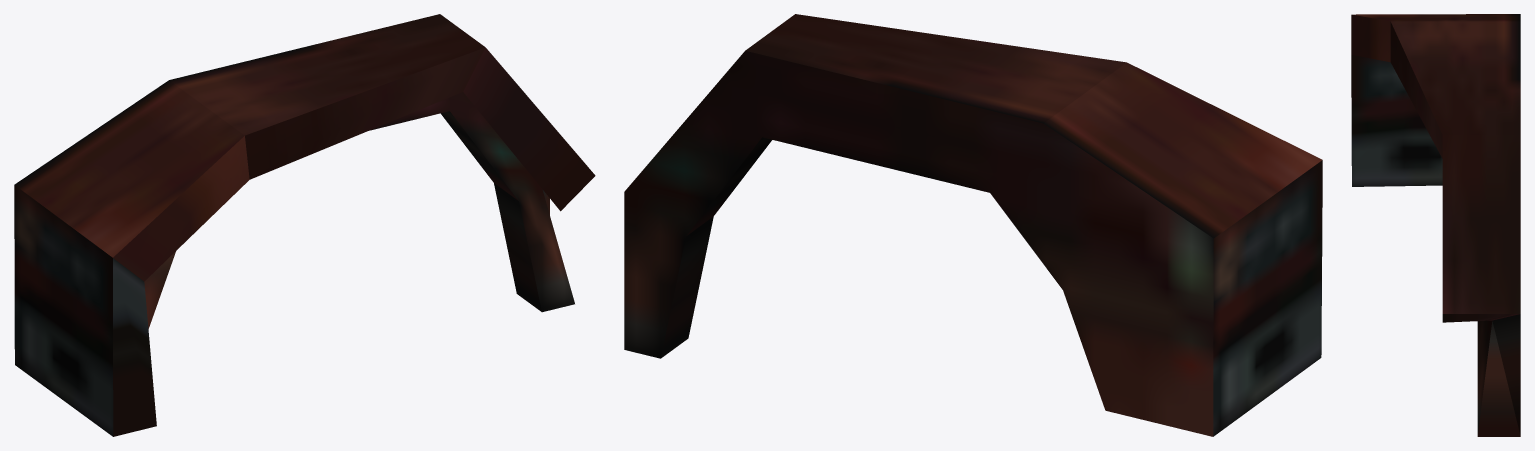
The model's file is Shared - Armor - Tanker Truck - Damage State 08 - CVTanker_d08.glb.
3 renders of one model, left to right at view 1: azimuth 30°, elevation 25°; view 2: azimuth 150°, elevation 25°; view 3: azimuth 270°, elevation 25°, orthographic. The views are drawn at different scales.
Visible parts, largest first — view 1: CVTANKER_D08; view 2: CVTANKER_D08; view 3: CVTANKER_D08.
Part boxes in pixels (x1=…): CVTANKER_D08: x1=14, y1=14, x2=595, y2=436; CVTANKER_D08: x1=624, y1=14, x2=1322, y2=436; CVTANKER_D08: x1=1351, y1=14, x2=1520, y2=436.
Size of the model in its own units: 7.87 by 4.19 by 2.51.
Materials: 1 (1 with a texture image).
